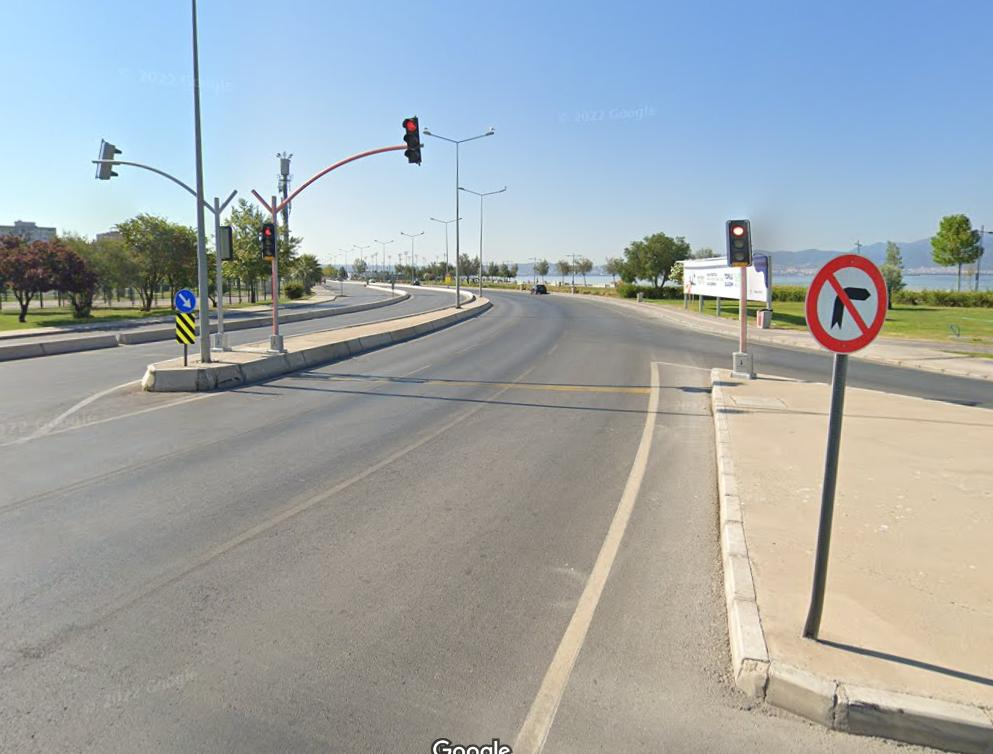redlight: (728, 222, 752, 263), (401, 118, 418, 163), (263, 224, 275, 259)
rightturnsareforbidden: (811, 256, 899, 352)
